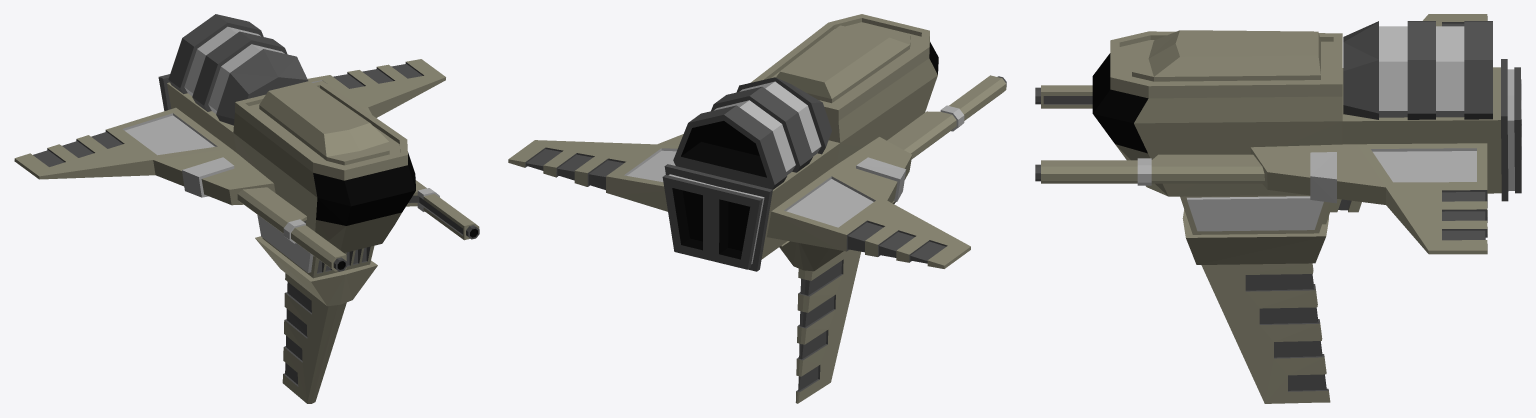
File: Spaceship12_3.fbx
The picture shows the model from 3 angles, left to right: view 1: azimuth 30°, elevation 25°; view 2: azimuth 150°, elevation 25°; view 3: azimuth 270°, elevation 25°; orthographic projection. The views are drawn at different scales.
Visible parts, largest first — view 1: Spaceship12_3; view 2: Spaceship12_3; view 3: Spaceship12_3.
Part boxes in pixels (x1,y1,x2,y2): Spaceship12_3: (14,14,479,403); Spaceship12_3: (508,14,1006,403); Spaceship12_3: (1035,14,1521,403).
Bounding box in the file's own units: 1337 × 1004 × 1162.
